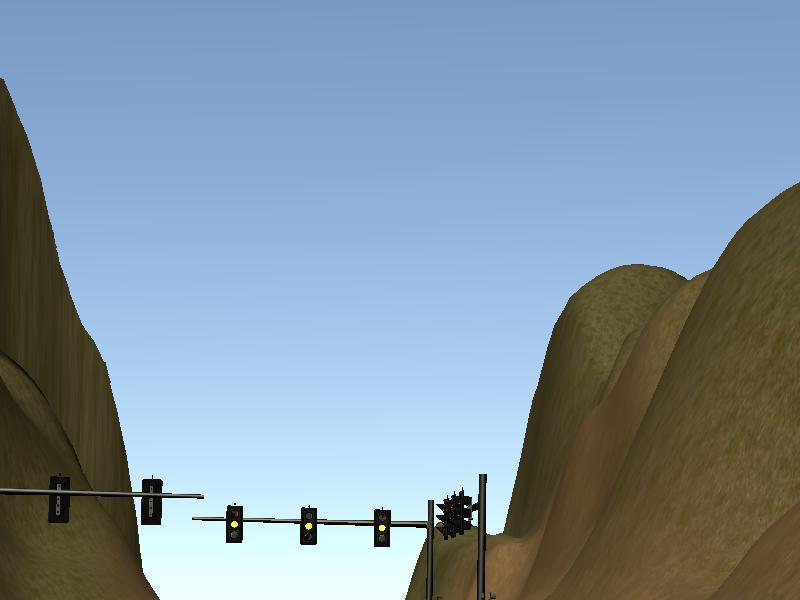Yellow: (374, 512, 391, 547), (226, 508, 243, 542), (302, 508, 317, 545)
